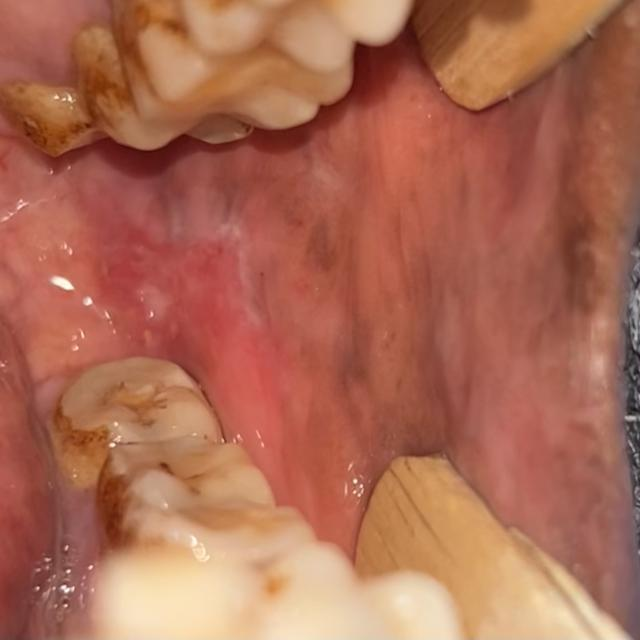leukoplakia-like-detection: (22, 15, 634, 560)
processing_area: (0, 10, 639, 639)
